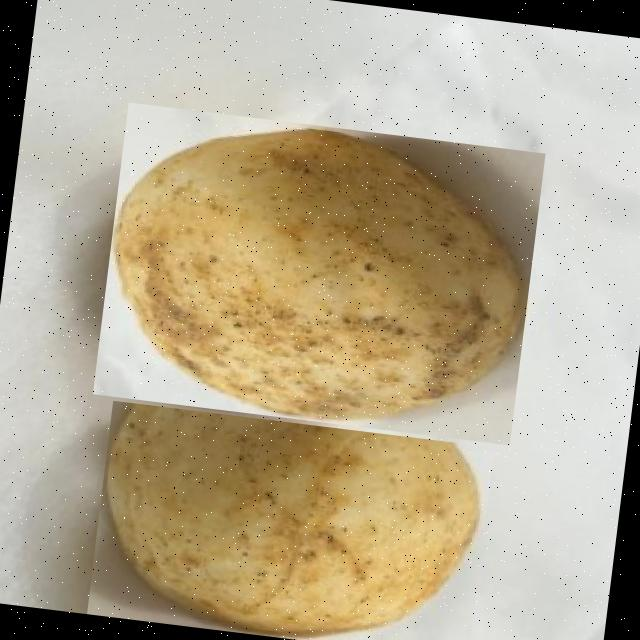Potato: (92, 101, 546, 444), (86, 399, 493, 640)
